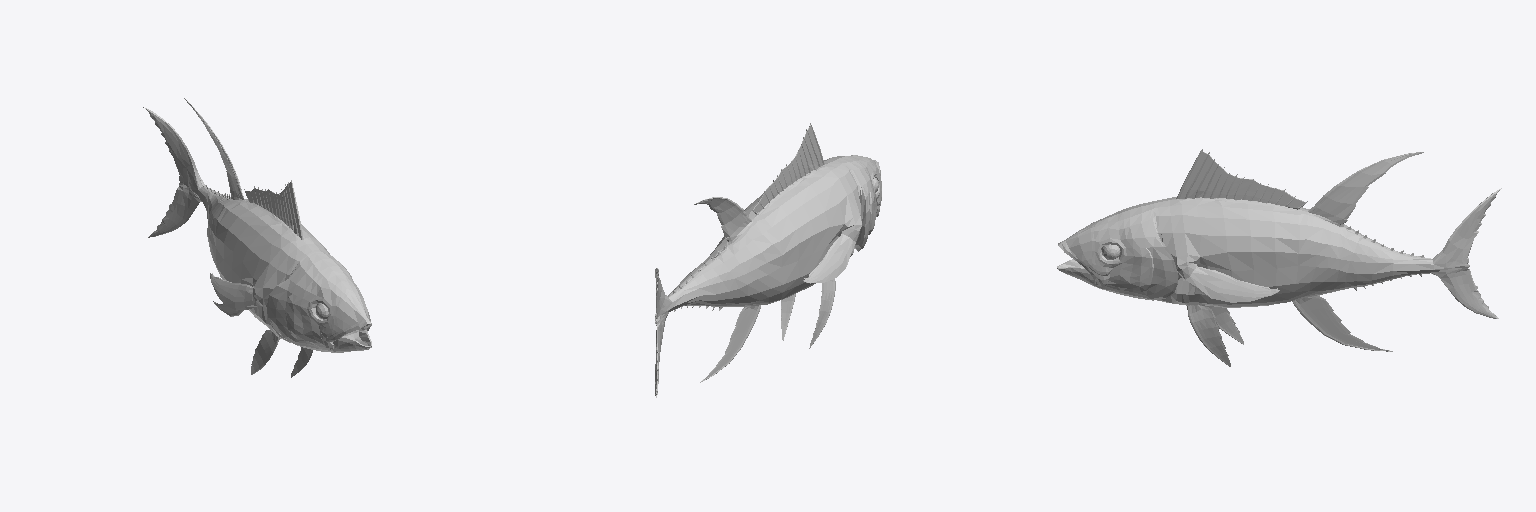
File: tuna_fish.obj
3 views of the same model, side by side, from view 1: azimuth 30°, elevation 25°; view 2: azimuth 150°, elevation 25°; view 3: azimuth 270°, elevation 25° (orthographic).
Visible parts, largest first — view 1: Object_111; view 2: Object_111; view 3: Object_111.
Part boxes in pixels (bbox=[...]): Object_111: bbox=[143, 98, 371, 377]; Object_111: bbox=[655, 123, 881, 397]; Object_111: bbox=[1057, 149, 1501, 366].
Bounding box in the file's own units: 0.748 × 1.55 × 2.94.